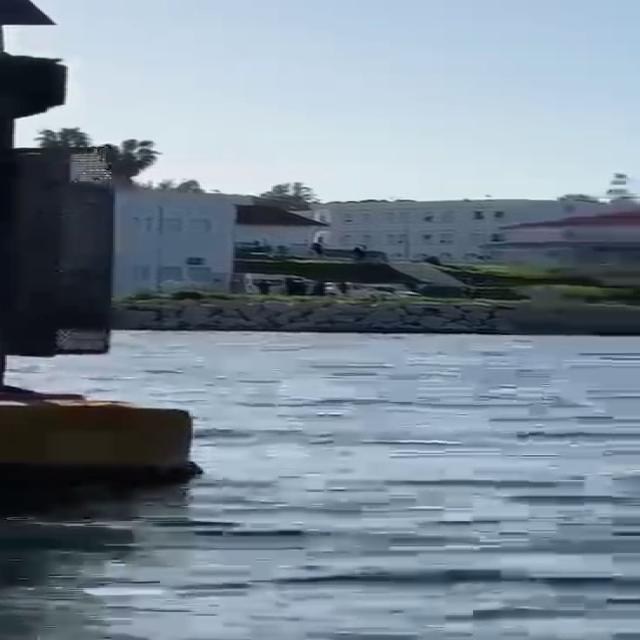marque: (1, 1, 208, 484)
